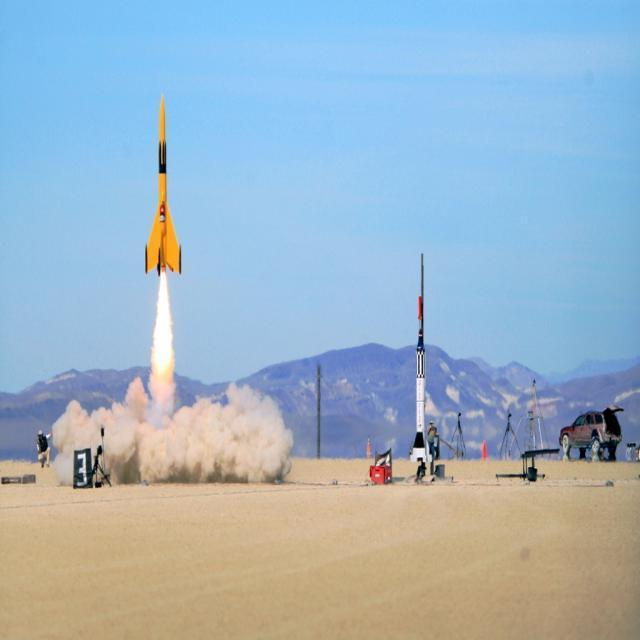missile: (139, 86, 187, 278), (411, 257, 427, 463)
